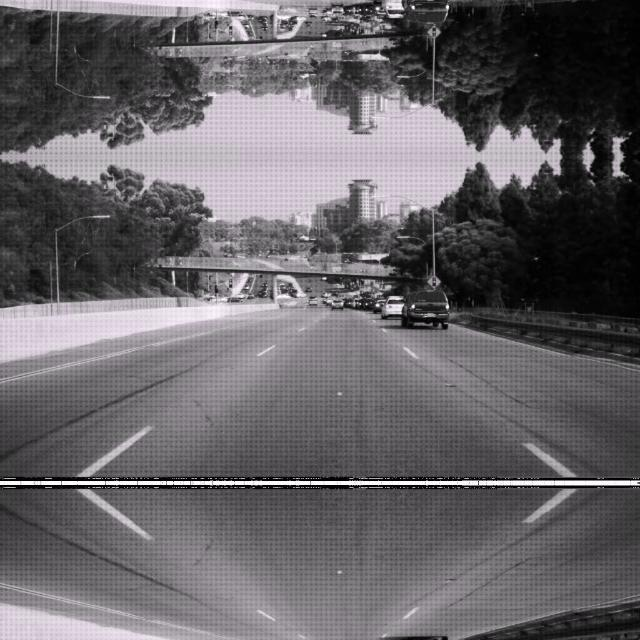signalAhead: (426, 272, 442, 288), (426, 24, 442, 40), (223, 274, 237, 288), (223, 24, 237, 38), (358, 266, 366, 272), (358, 40, 366, 46)
